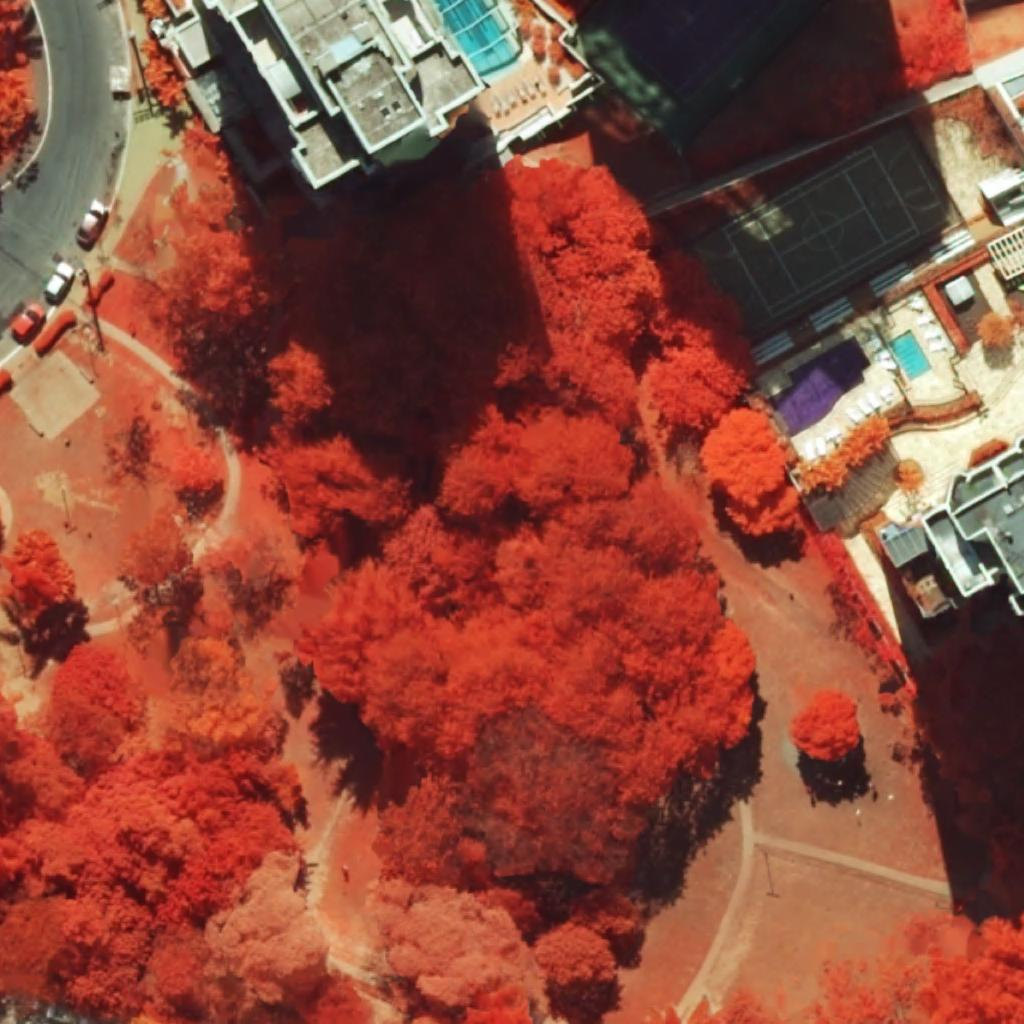pool: (769, 336, 872, 438), (434, 0, 518, 77), (888, 329, 932, 382)
